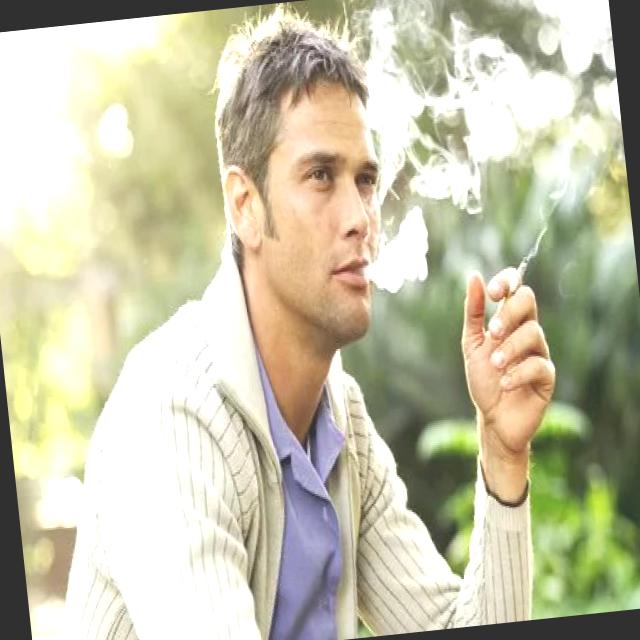cigarette: (499, 245, 536, 302)
